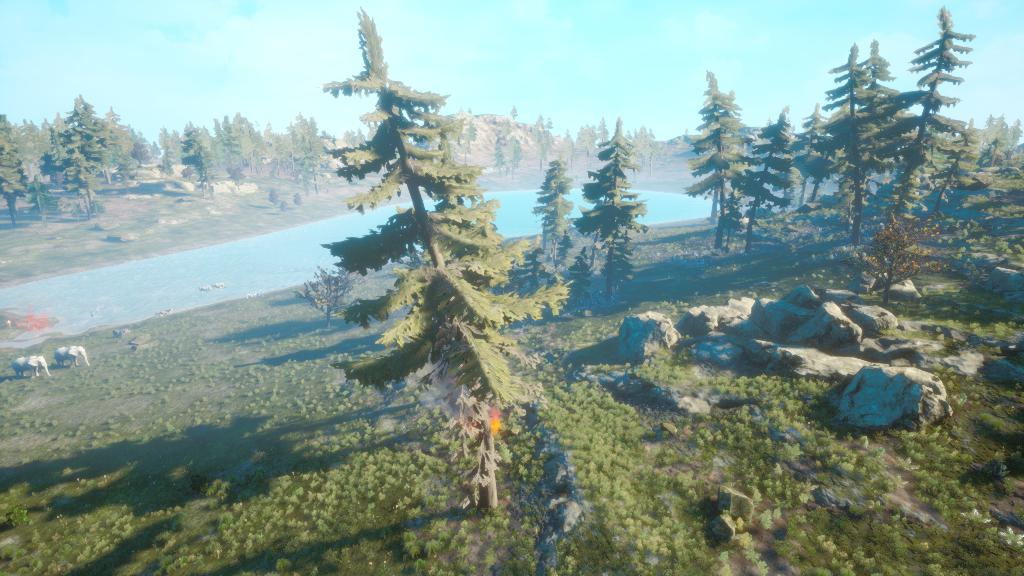Fire: (484, 406, 508, 445), (17, 311, 51, 332), (451, 408, 478, 433)
elephant: (45, 339, 96, 372), (8, 349, 55, 383)
